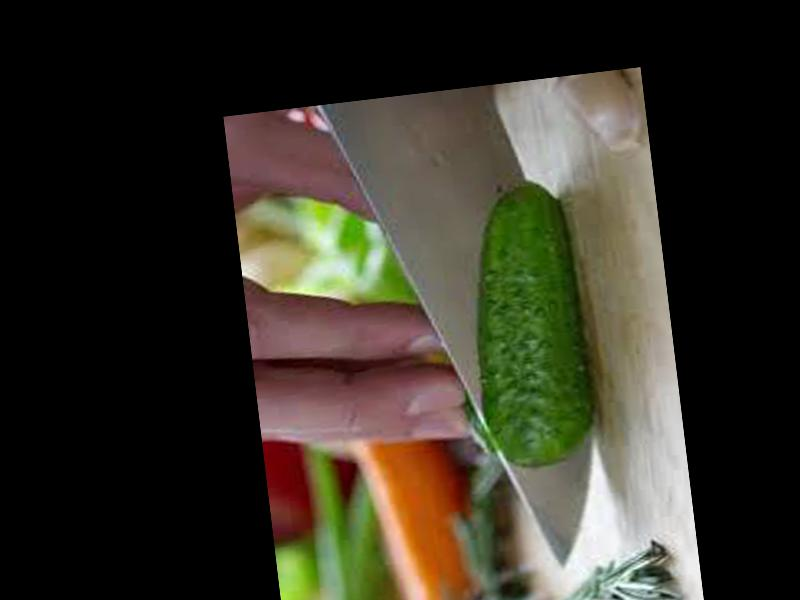Cucumber: (456, 179, 604, 473)
